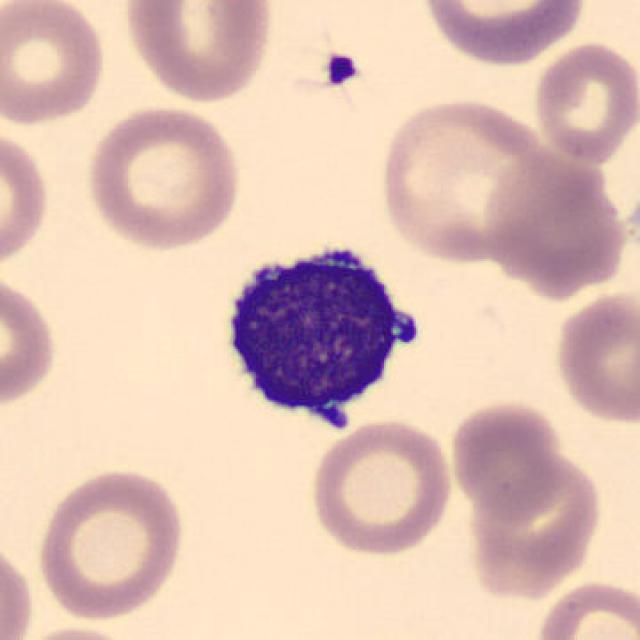Lymphocyte: (206, 227, 436, 448), (206, 229, 436, 448)
Platelets: (322, 50, 362, 88)
RBC: (375, 92, 553, 268), (477, 149, 633, 309), (82, 101, 247, 252), (32, 464, 188, 622), (461, 450, 606, 601), (306, 414, 457, 559), (119, 0, 277, 106), (446, 397, 567, 522), (0, 0, 110, 129), (528, 39, 638, 166), (551, 287, 638, 427), (414, 0, 592, 67), (0, 270, 62, 414), (0, 121, 53, 275), (529, 576, 638, 640), (0, 530, 39, 640)
